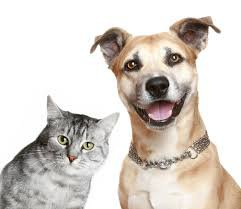cat: (3, 95, 114, 209)
dog: (93, 17, 240, 209)
